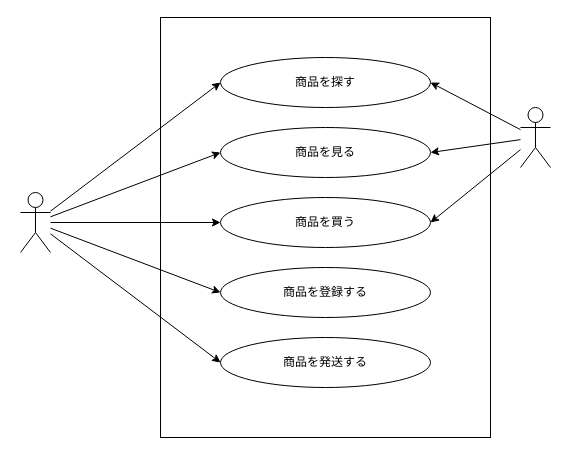
Image size: 570x455. Some labels were removed from this diagram. The shapes that lost their labels are listed below. From the top down, each one's centre as x and y in pixels, then its label:
At point (535, 137): "購入者".
At point (35, 222): "管理者".
